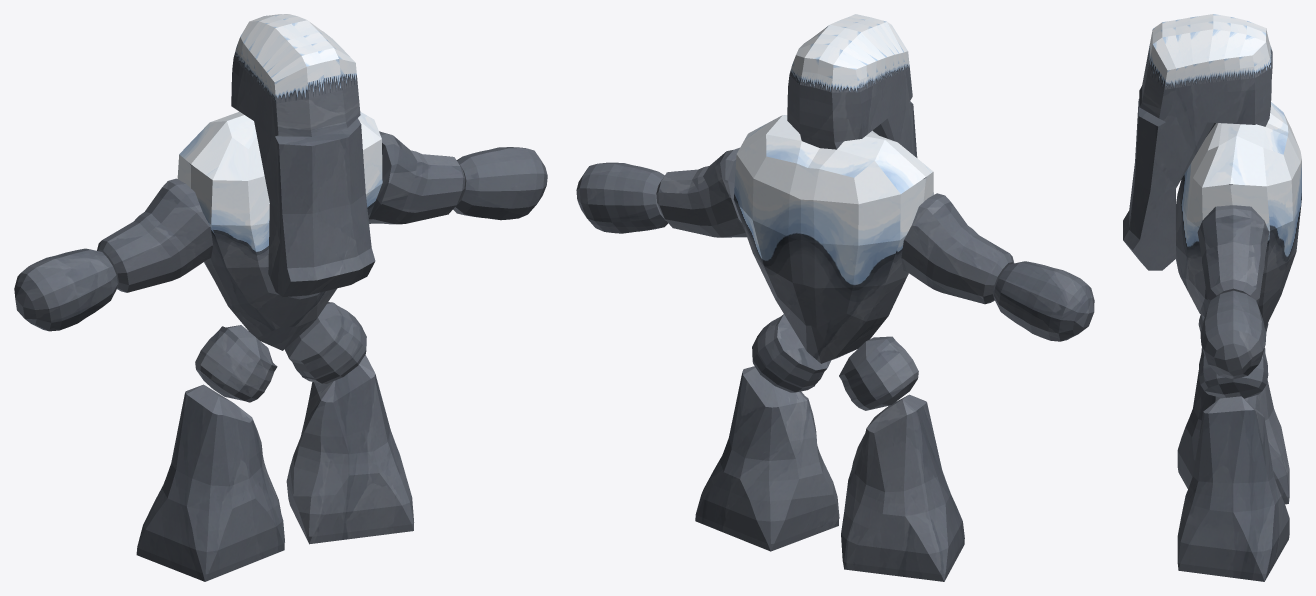
File: MountainMan.fbx
The picture shows the model from 3 angles, left to right: view 1: azimuth 30°, elevation 25°; view 2: azimuth 150°, elevation 25°; view 3: azimuth 270°, elevation 25°; orthographic projection. The views are drawn at different scales.
Parts seen in each view (by area): view 1: MountainMan; view 2: MountainMan; view 3: MountainMan.
Boxes of the visible parts, bbox=[...] form: MountainMan: bbox=[14, 14, 547, 581]; MountainMan: bbox=[576, 14, 1094, 581]; MountainMan: bbox=[1123, 14, 1301, 581].
Bounding box in the file's own units: 395 × 373 × 121.
1 material, 1 textured.
